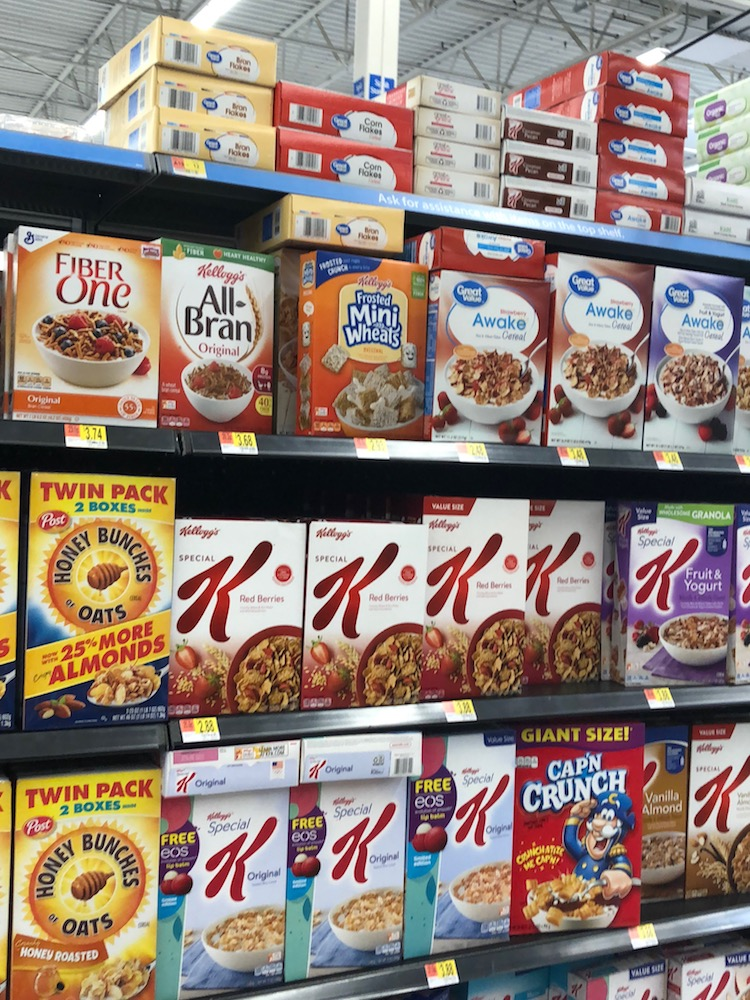Frosted Mini Original -9295869: (302, 255, 426, 441)
